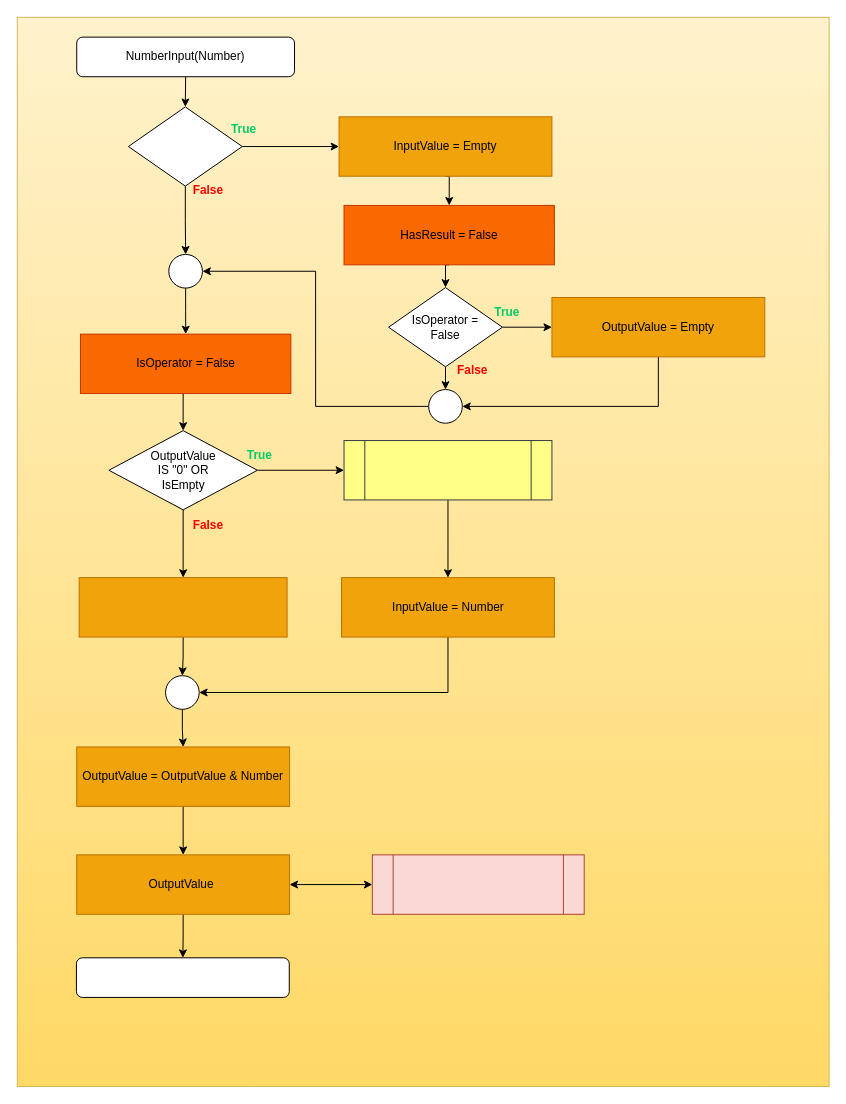
This 846x1104 diagram has some shape labels left out. Here are the shapes that lost their labels. From the top down, the centre of each, then its label:
At point 184,146: "HasResult".
At point 447,470: "ResetValues()".
At point 182,607: "InputValue = InputValue & Number".
At point 477,884: "DisplayOutput(OutputValue)".
At point 182,977: "Return".
